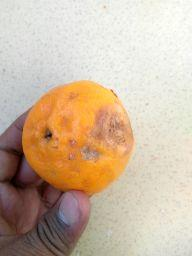Unripe: (23, 81, 135, 195)
